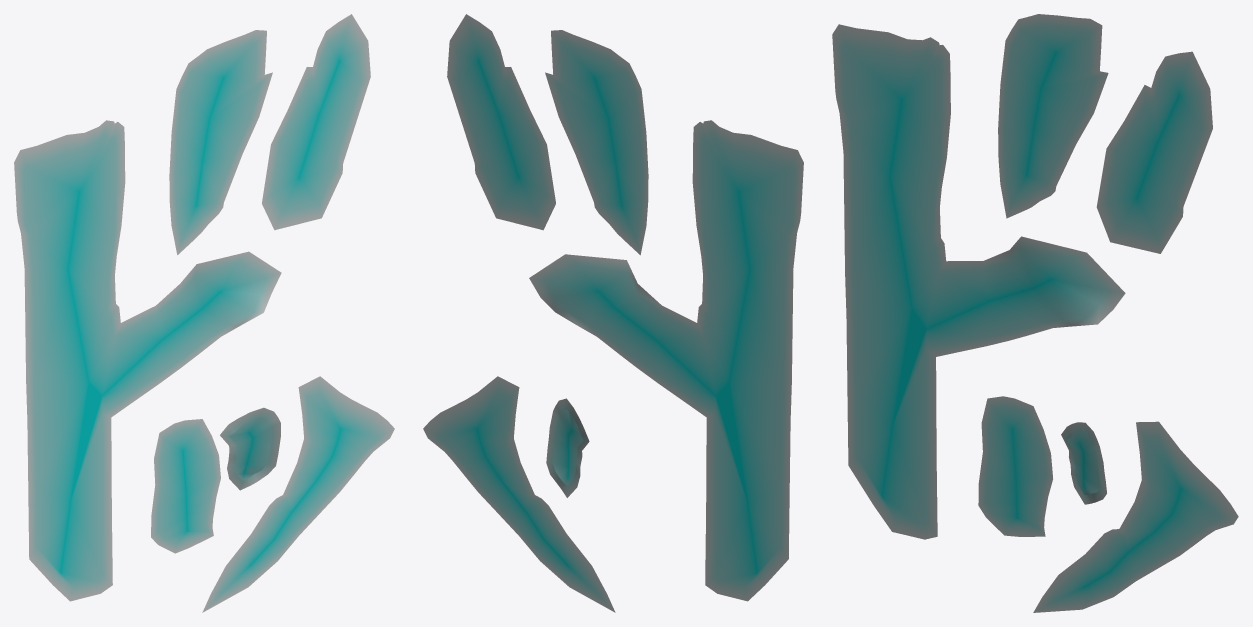
Rendered from SM_EFF_Text_LaughingMonk_01.glb.
The picture shows the model from 3 angles, left to right: view 1: azimuth 30°, elevation 25°; view 2: azimuth 150°, elevation 25°; view 3: azimuth 330°, elevation 25°; orthographic projection. The views are drawn at different scales.
Visible parts, largest first — view 1: SM_EFF_Text_LaughingMonk_01; view 2: SM_EFF_Text_LaughingMonk_01; view 3: SM_EFF_Text_LaughingMonk_01.
Part boxes in pixels (bbox=[...]): SM_EFF_Text_LaughingMonk_01: bbox=[14, 14, 394, 612]; SM_EFF_Text_LaughingMonk_01: bbox=[423, 14, 803, 612]; SM_EFF_Text_LaughingMonk_01: bbox=[832, 14, 1238, 612].
Bounding box in the file's own units: 0.5589 × 0.7992 × 0.0349.
